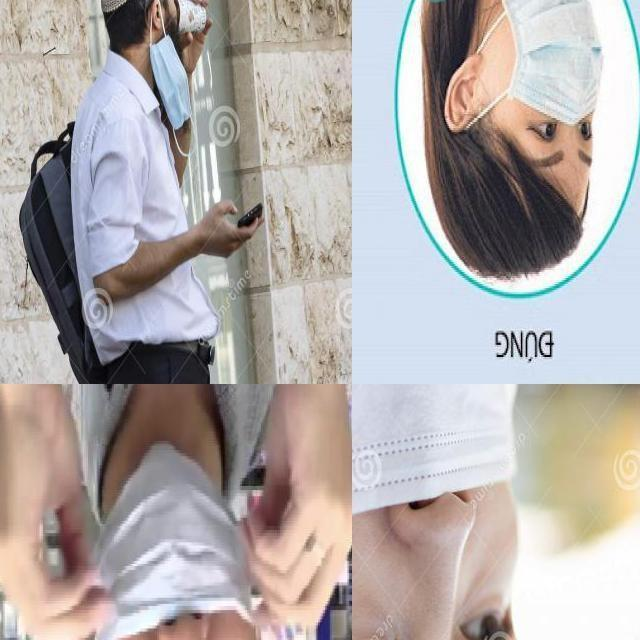hairnet: (85, 386, 273, 635), (349, 386, 526, 584)
